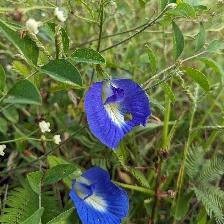shankupushpam: (85, 62, 152, 150), (66, 164, 134, 224)
